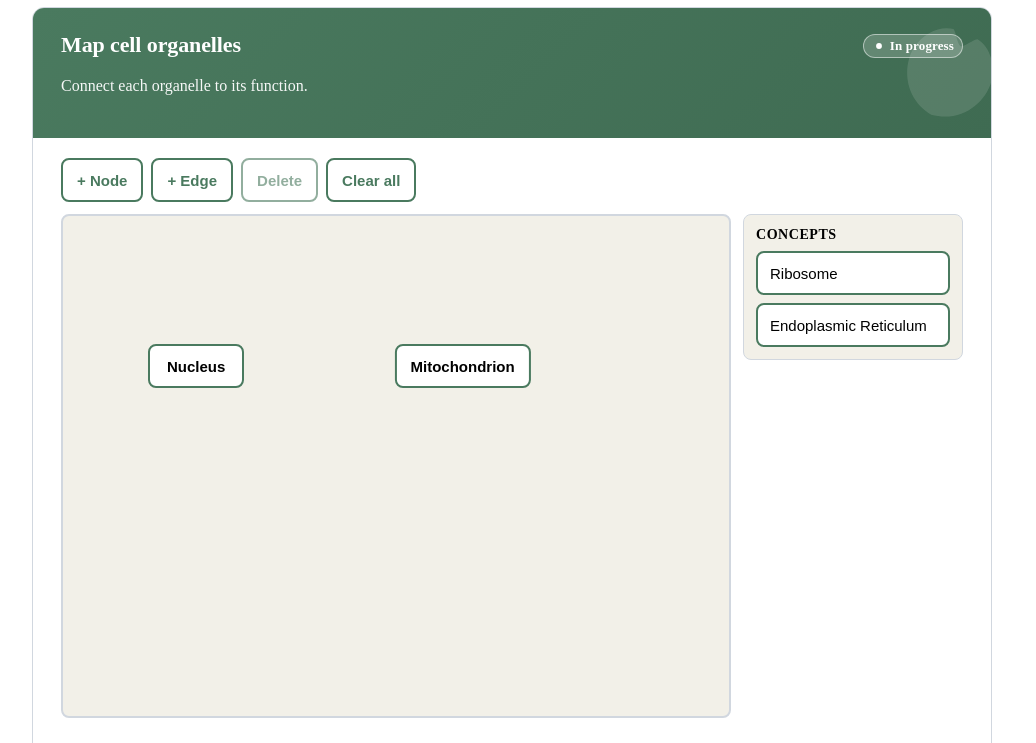
Test case: ConceptMap › after submit, Try again resets the canvas to seed state when enableRetry is on
The image size is (1036, 743).
Add a node, then submit.
Click the button with aria-label "add concept ribosome to canvas" at [853, 273], box [756,251,950,295]
(page scrolled)
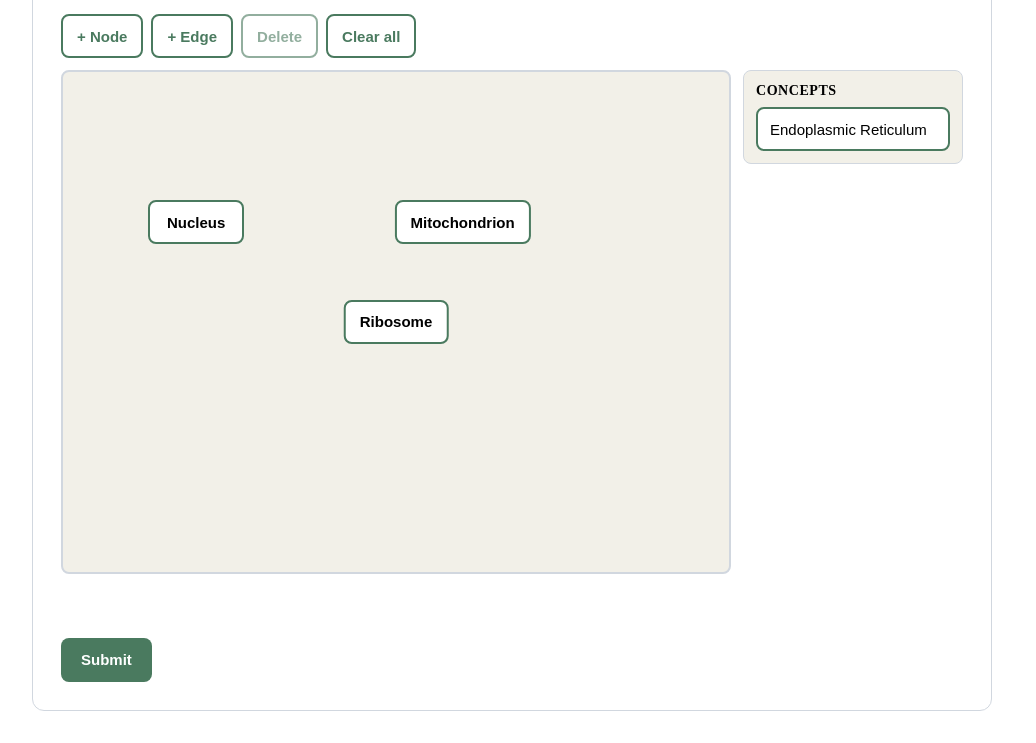
Click the button "Submit" at [106, 660], box [61,638,152,682]
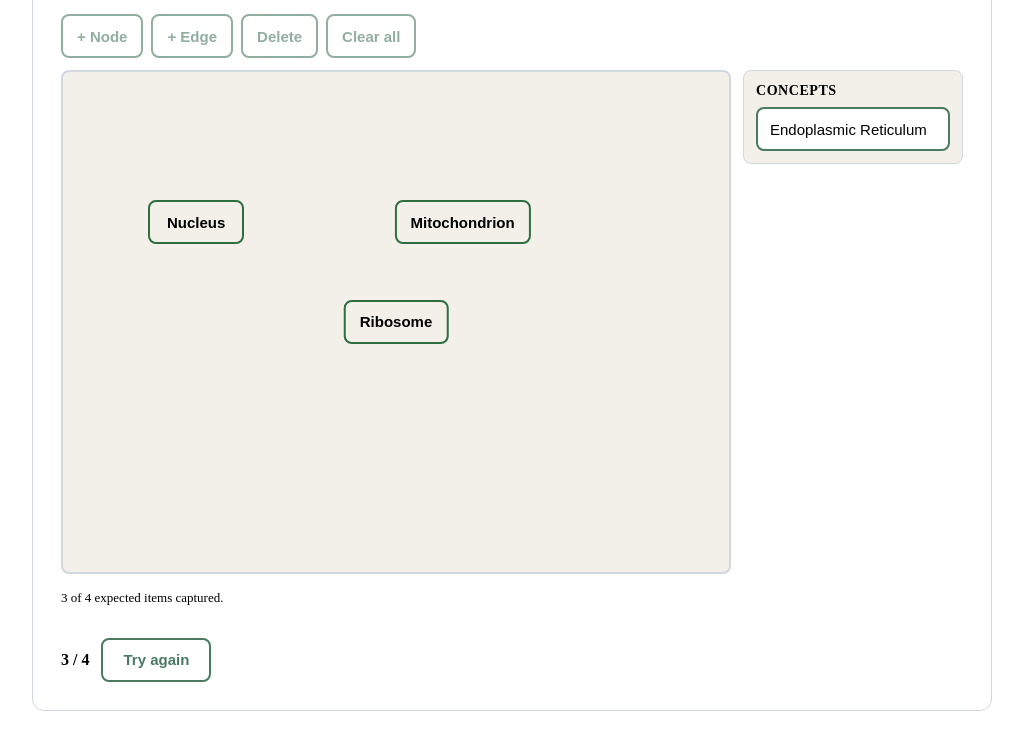
Check: the button with aria-label "node ribosome" is shown, box [344,300,448,344]
Check: the button "Submit" is gone
Check: the button "Try again" is shown
Click the button "Try again" at [156, 660], box [102,638,211,682]
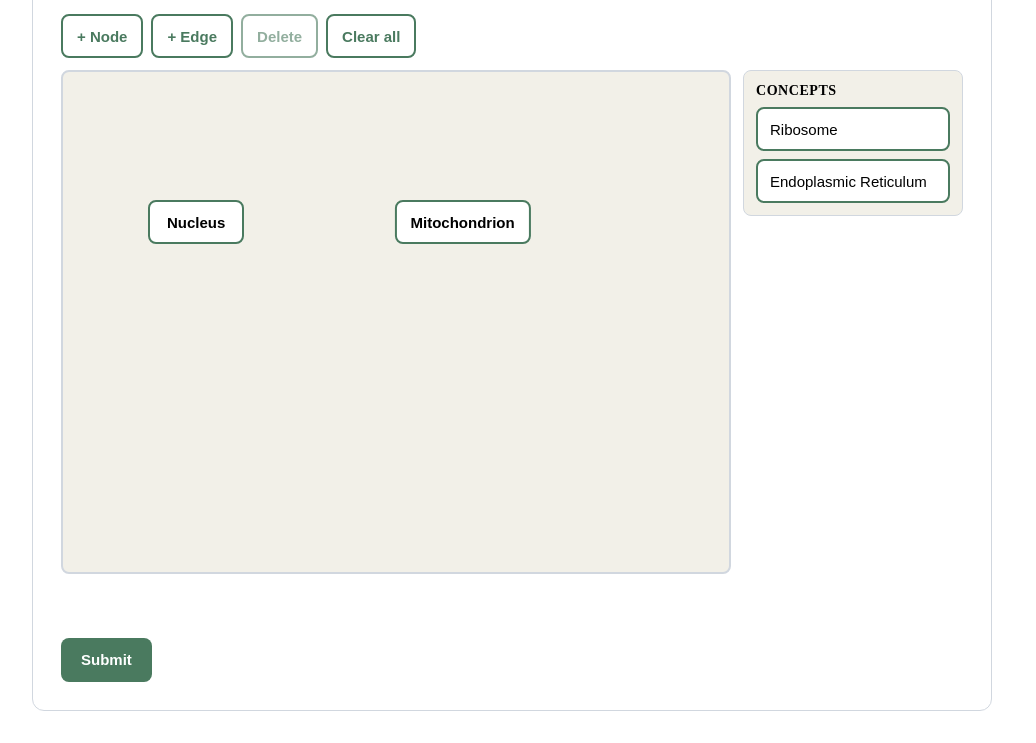
Check: the button with aria-label "add concept ribosome to canvas" is shown, box [756,107,950,151]
Check: the button "Submit" is shown, box [61,638,152,682]
